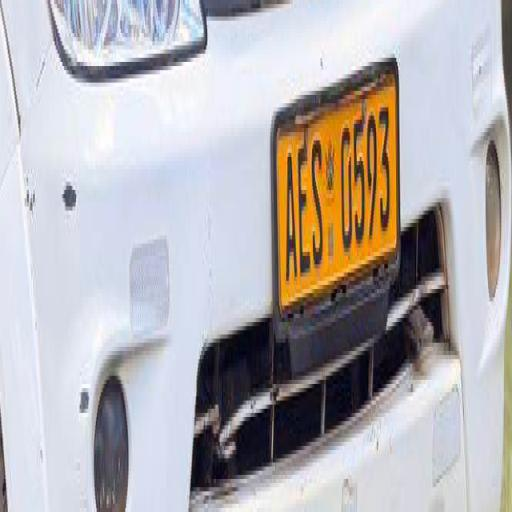number-plates: (276, 106, 396, 275)
